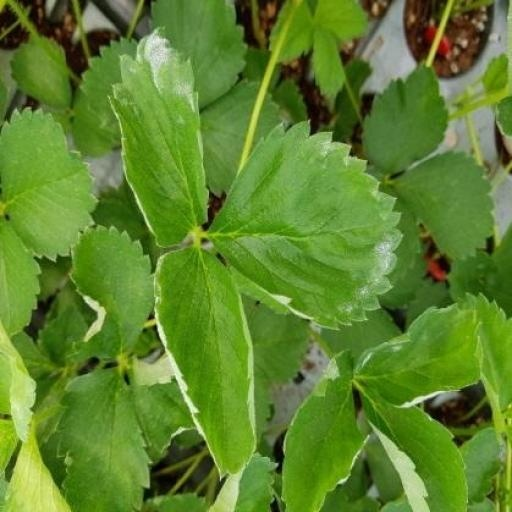Powdery Mildew Leaf: (203, 179, 406, 393), (151, 31, 259, 269), (107, 264, 209, 486), (278, 0, 365, 164), (358, 0, 468, 127), (354, 104, 484, 210), (66, 147, 154, 289), (127, 59, 198, 164)
